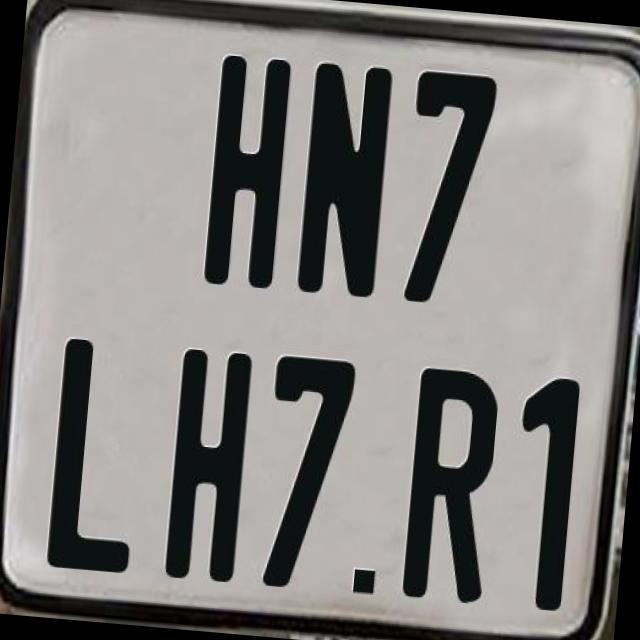1: (502, 374, 578, 610)
7: (398, 67, 501, 313), (252, 351, 356, 594)
H: (202, 55, 300, 298), (163, 346, 260, 584)
L: (43, 334, 149, 572)
N: (292, 59, 389, 295)
R: (397, 364, 499, 606)
